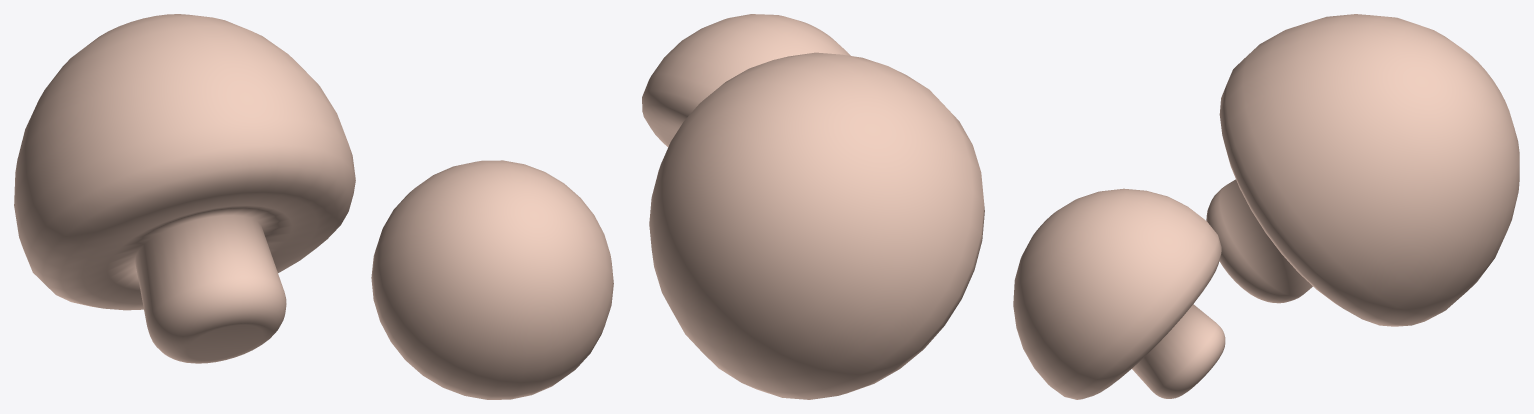
The model's file is Champiñones.fbx.
The picture shows the model from 3 angles, left to right: view 1: azimuth 30°, elevation 25°; view 2: azimuth 150°, elevation 25°; view 3: azimuth 270°, elevation 25°; orthographic projection. The views are drawn at different scales.
Parts seen in each view (by area): view 1: Champiñón 1, Champiñon 2; view 2: Champiñón 1, Champiñon 2; view 3: Champiñón 1, Champiñon 2.
Boxes of the visible parts, box(x1,y1,x2,y2) form: Champiñón 1: box(14, 14, 355, 363); Champiñon 2: box(371, 160, 613, 399); Champiñón 1: box(649, 52, 984, 399); Champiñon 2: box(642, 14, 850, 146); Champiñón 1: box(1206, 14, 1519, 326); Champiñon 2: box(1013, 188, 1225, 399).
Bounding box in the file's own units: 75.3 × 48.82 × 80.33.
